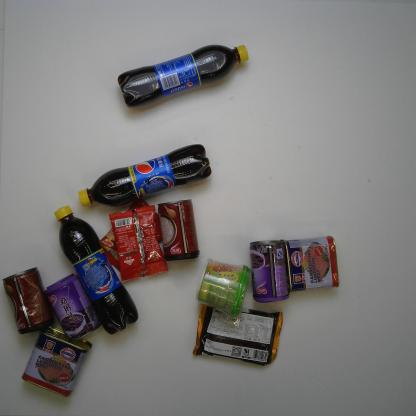Canned Food: (21, 326, 93, 398), (44, 271, 103, 343), (1, 266, 52, 336), (284, 233, 340, 292), (248, 238, 290, 306), (156, 198, 200, 262)
Dessert: (192, 303, 285, 367)
Drink: (52, 201, 141, 337), (116, 42, 254, 108), (76, 143, 216, 208)
Instant Drink: (97, 193, 168, 278), (106, 205, 170, 283), (194, 258, 253, 320)
